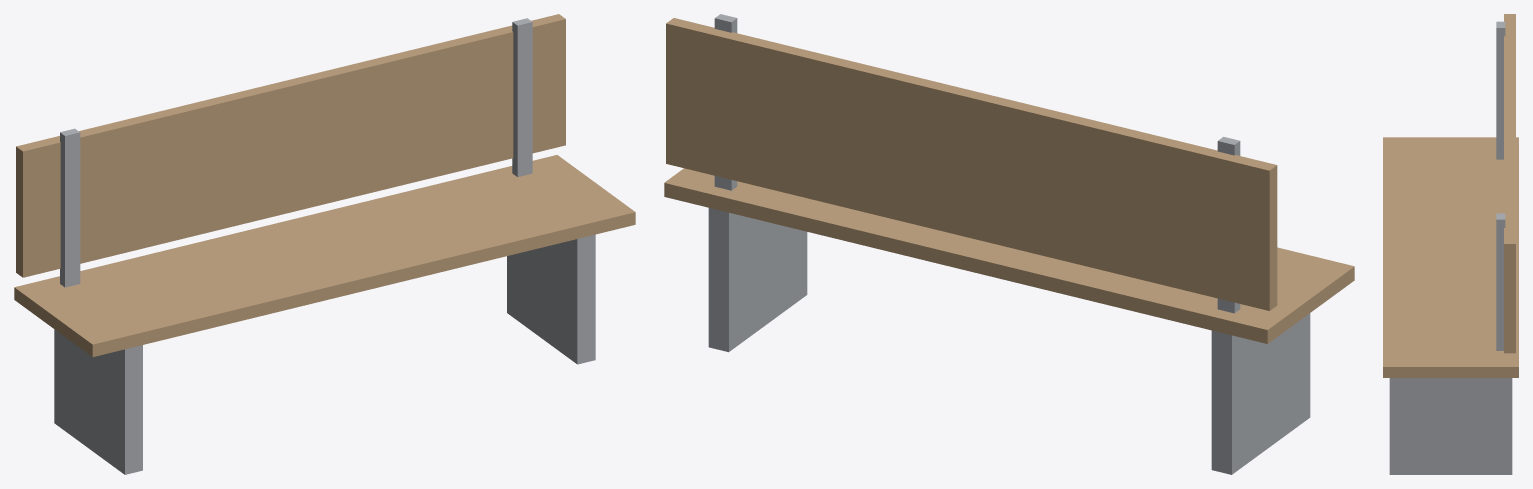
File: sbb-platform-bench.gltf
3 views of the same model, side by side, from view 1: azimuth 30°, elevation 25°; view 2: azimuth 150°, elevation 25°; view 3: azimuth 270°, elevation 25° (orthographic). The views are drawn at different scales.
Visible parts, largest first — view 1: sbb-platform-bench; view 2: sbb-platform-bench; view 3: sbb-platform-bench.
Part boxes in pixels (box(x1,y1,x2,y2)): sbb-platform-bench: box(14, 14, 635, 474); sbb-platform-bench: box(664, 14, 1354, 474); sbb-platform-bench: box(1383, 14, 1518, 474).
Bounding box in the file's own units: 1.8 × 0.93 × 0.45.
